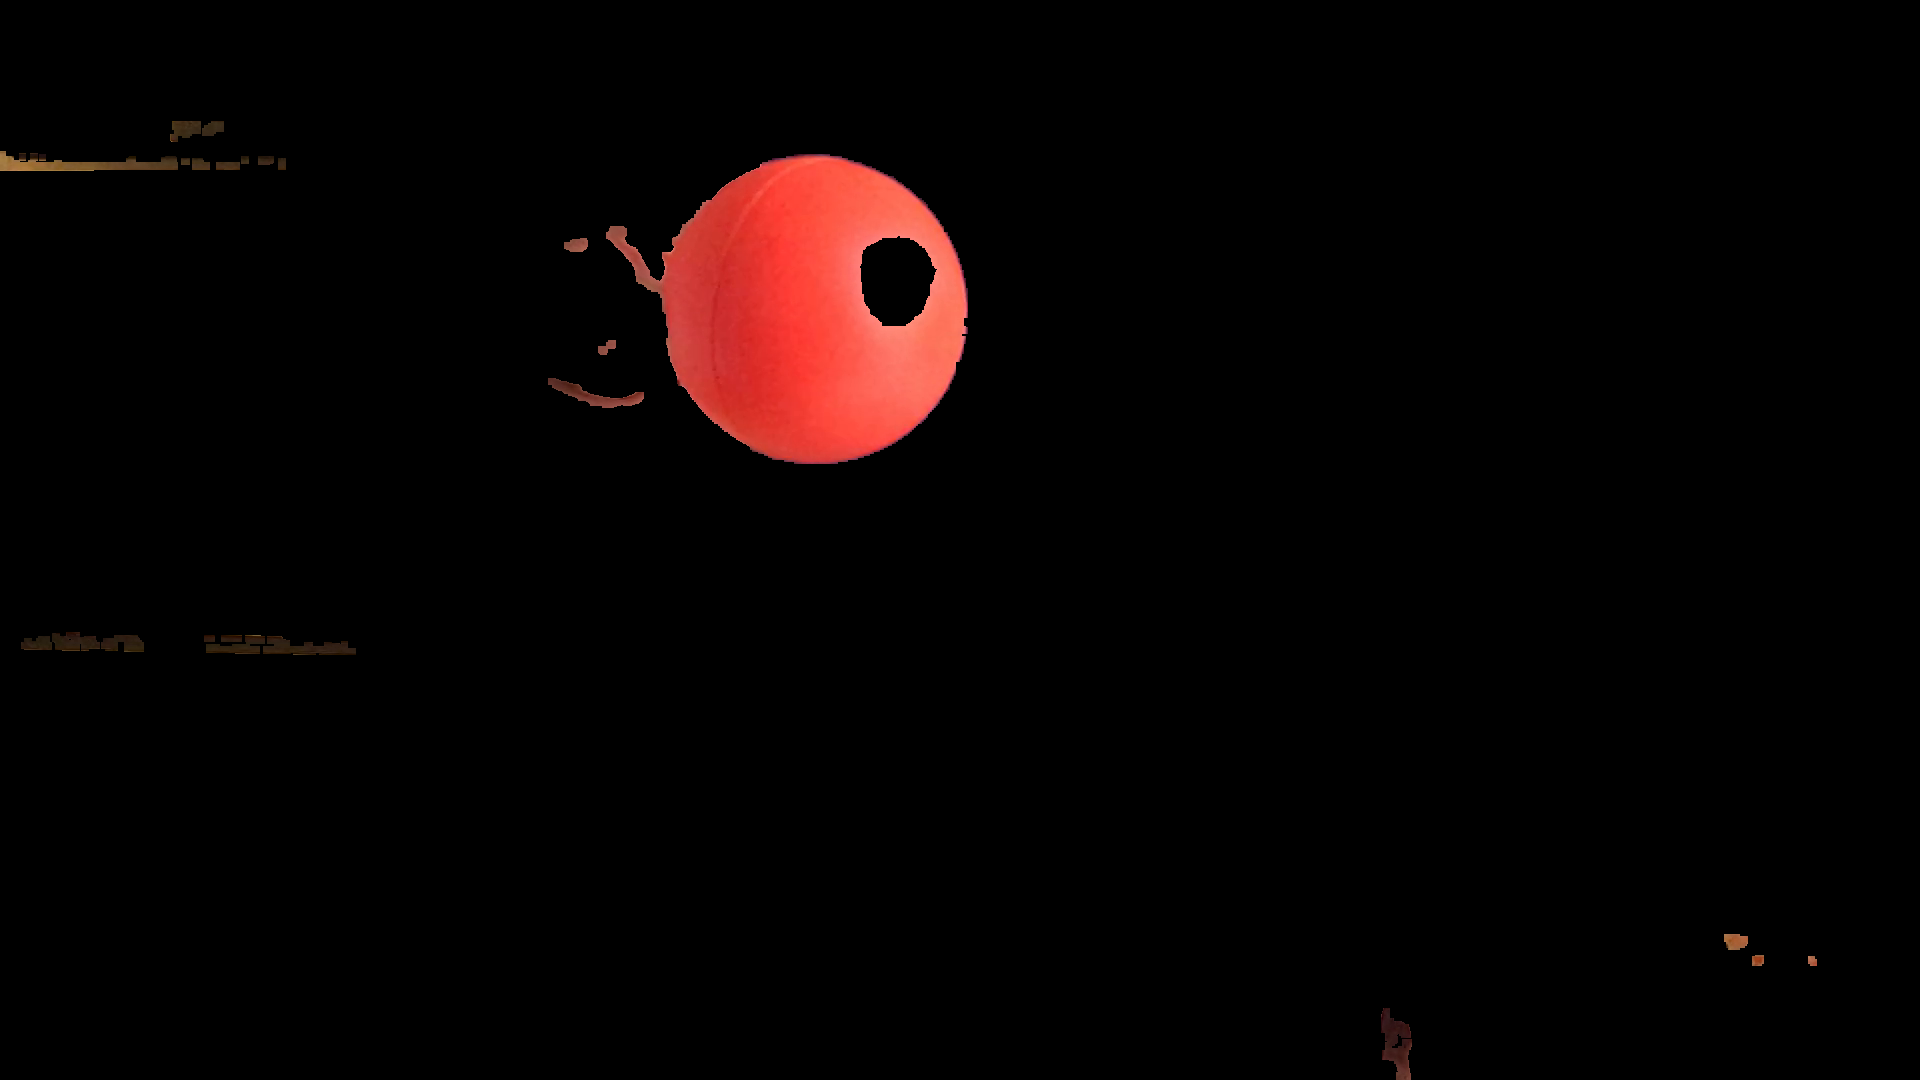Ball: (665, 154, 959, 469)
